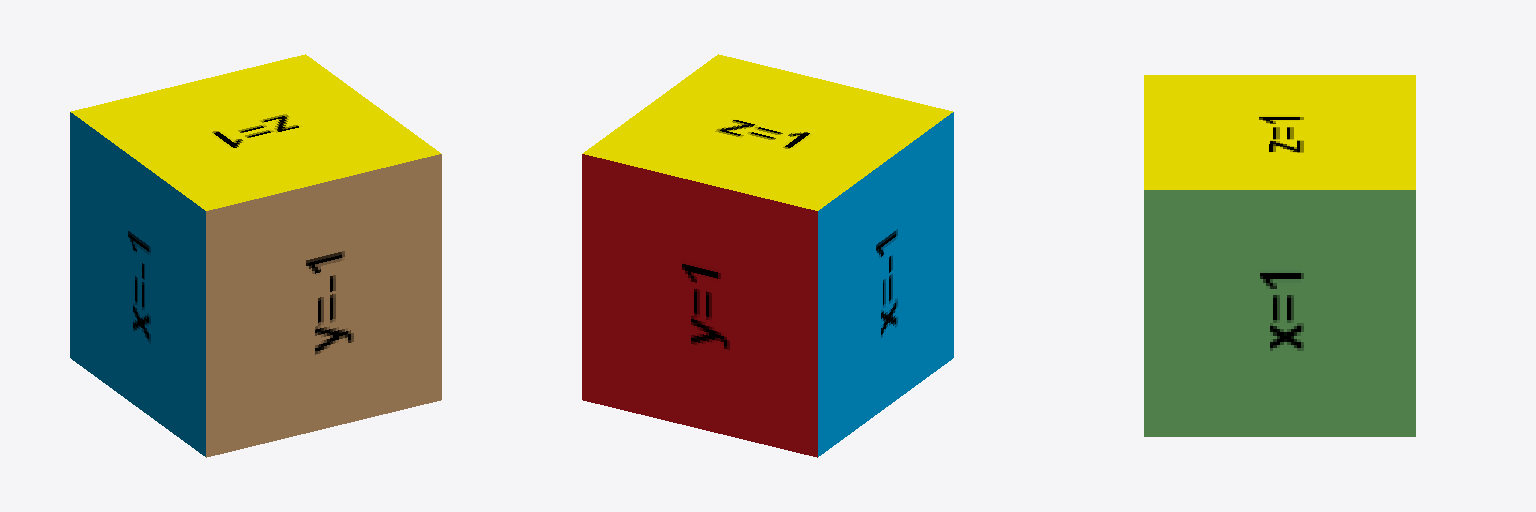
3 views of the same model, side by side, from view 1: azimuth 30°, elevation 25°; view 2: azimuth 150°, elevation 25°; view 3: azimuth 270°, elevation 25° (orthographic).
Parts seen in each view (by area): view 1: Cube; view 2: Cube; view 3: Cube.
Boxes of the visible parts, x1=… form: Cube: x1=70, y1=54, x2=441, y2=457; Cube: x1=582, y1=54, x2=953, y2=457; Cube: x1=1144, y1=75, x2=1415, y2=436.
Size of the model in its own units: 2 by 2 by 2.
Materials: 1 (1 with a texture image).